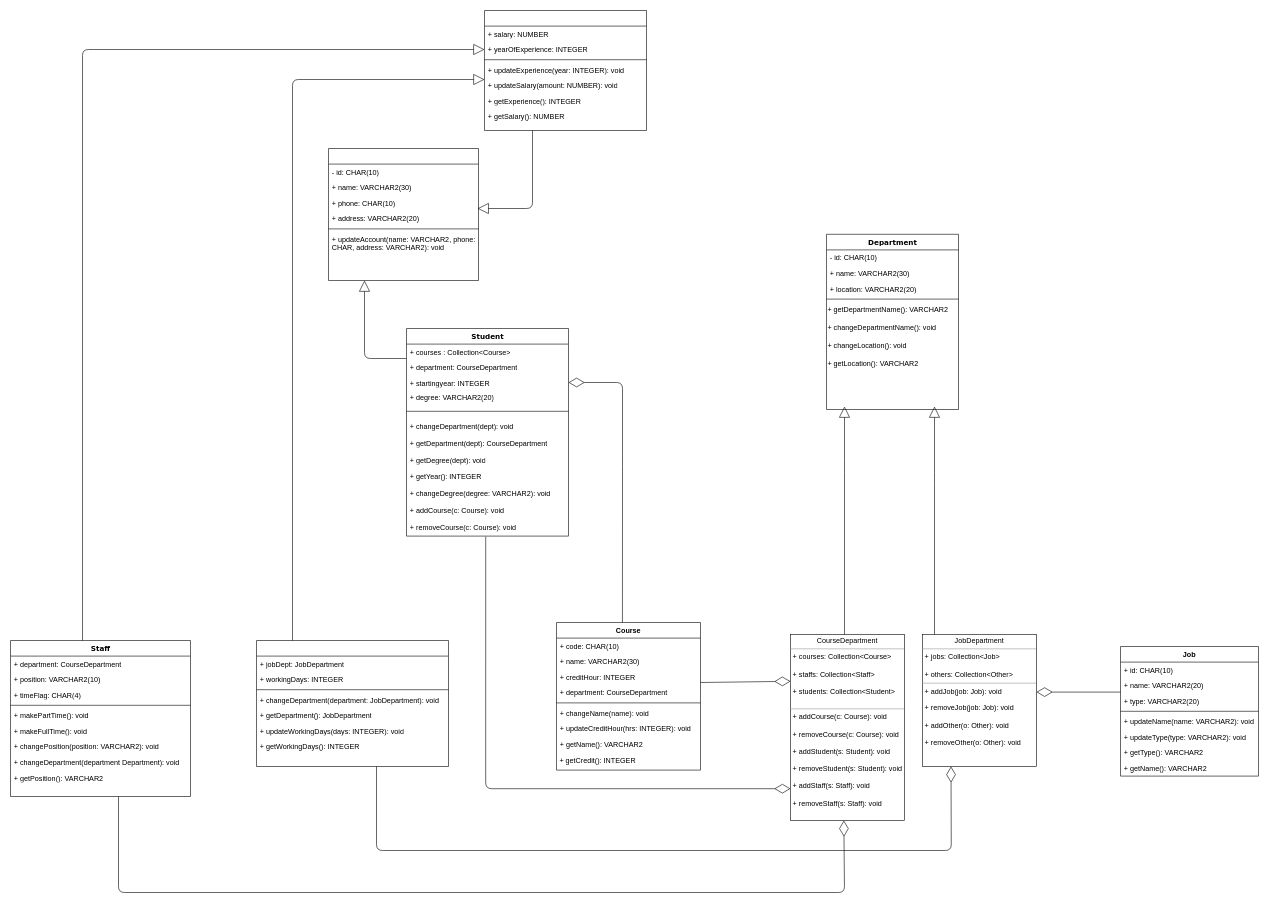
This 1269x919 diagram has some shape labels left out. Here are the shapes that lost their labels. From the top down, the box of each, then its label:
(484, 10, 646, 130): Employee
(328, 148, 478, 280): Person
(256, 640, 448, 766): Other
